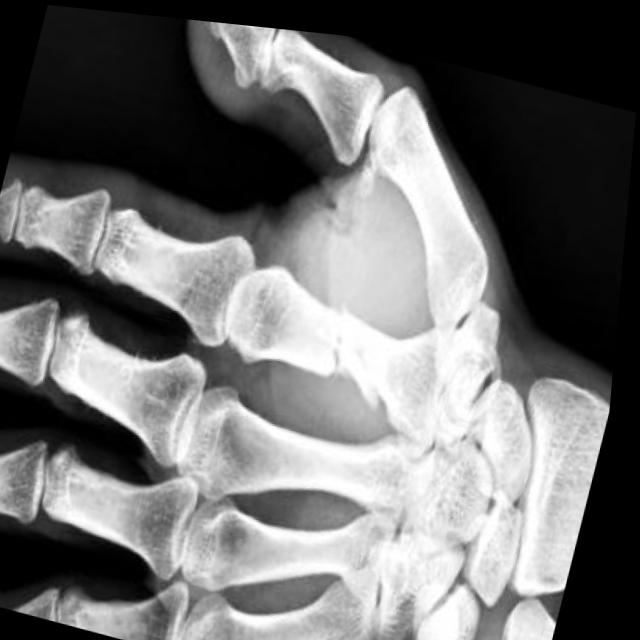fracture: (316, 289, 371, 392)
